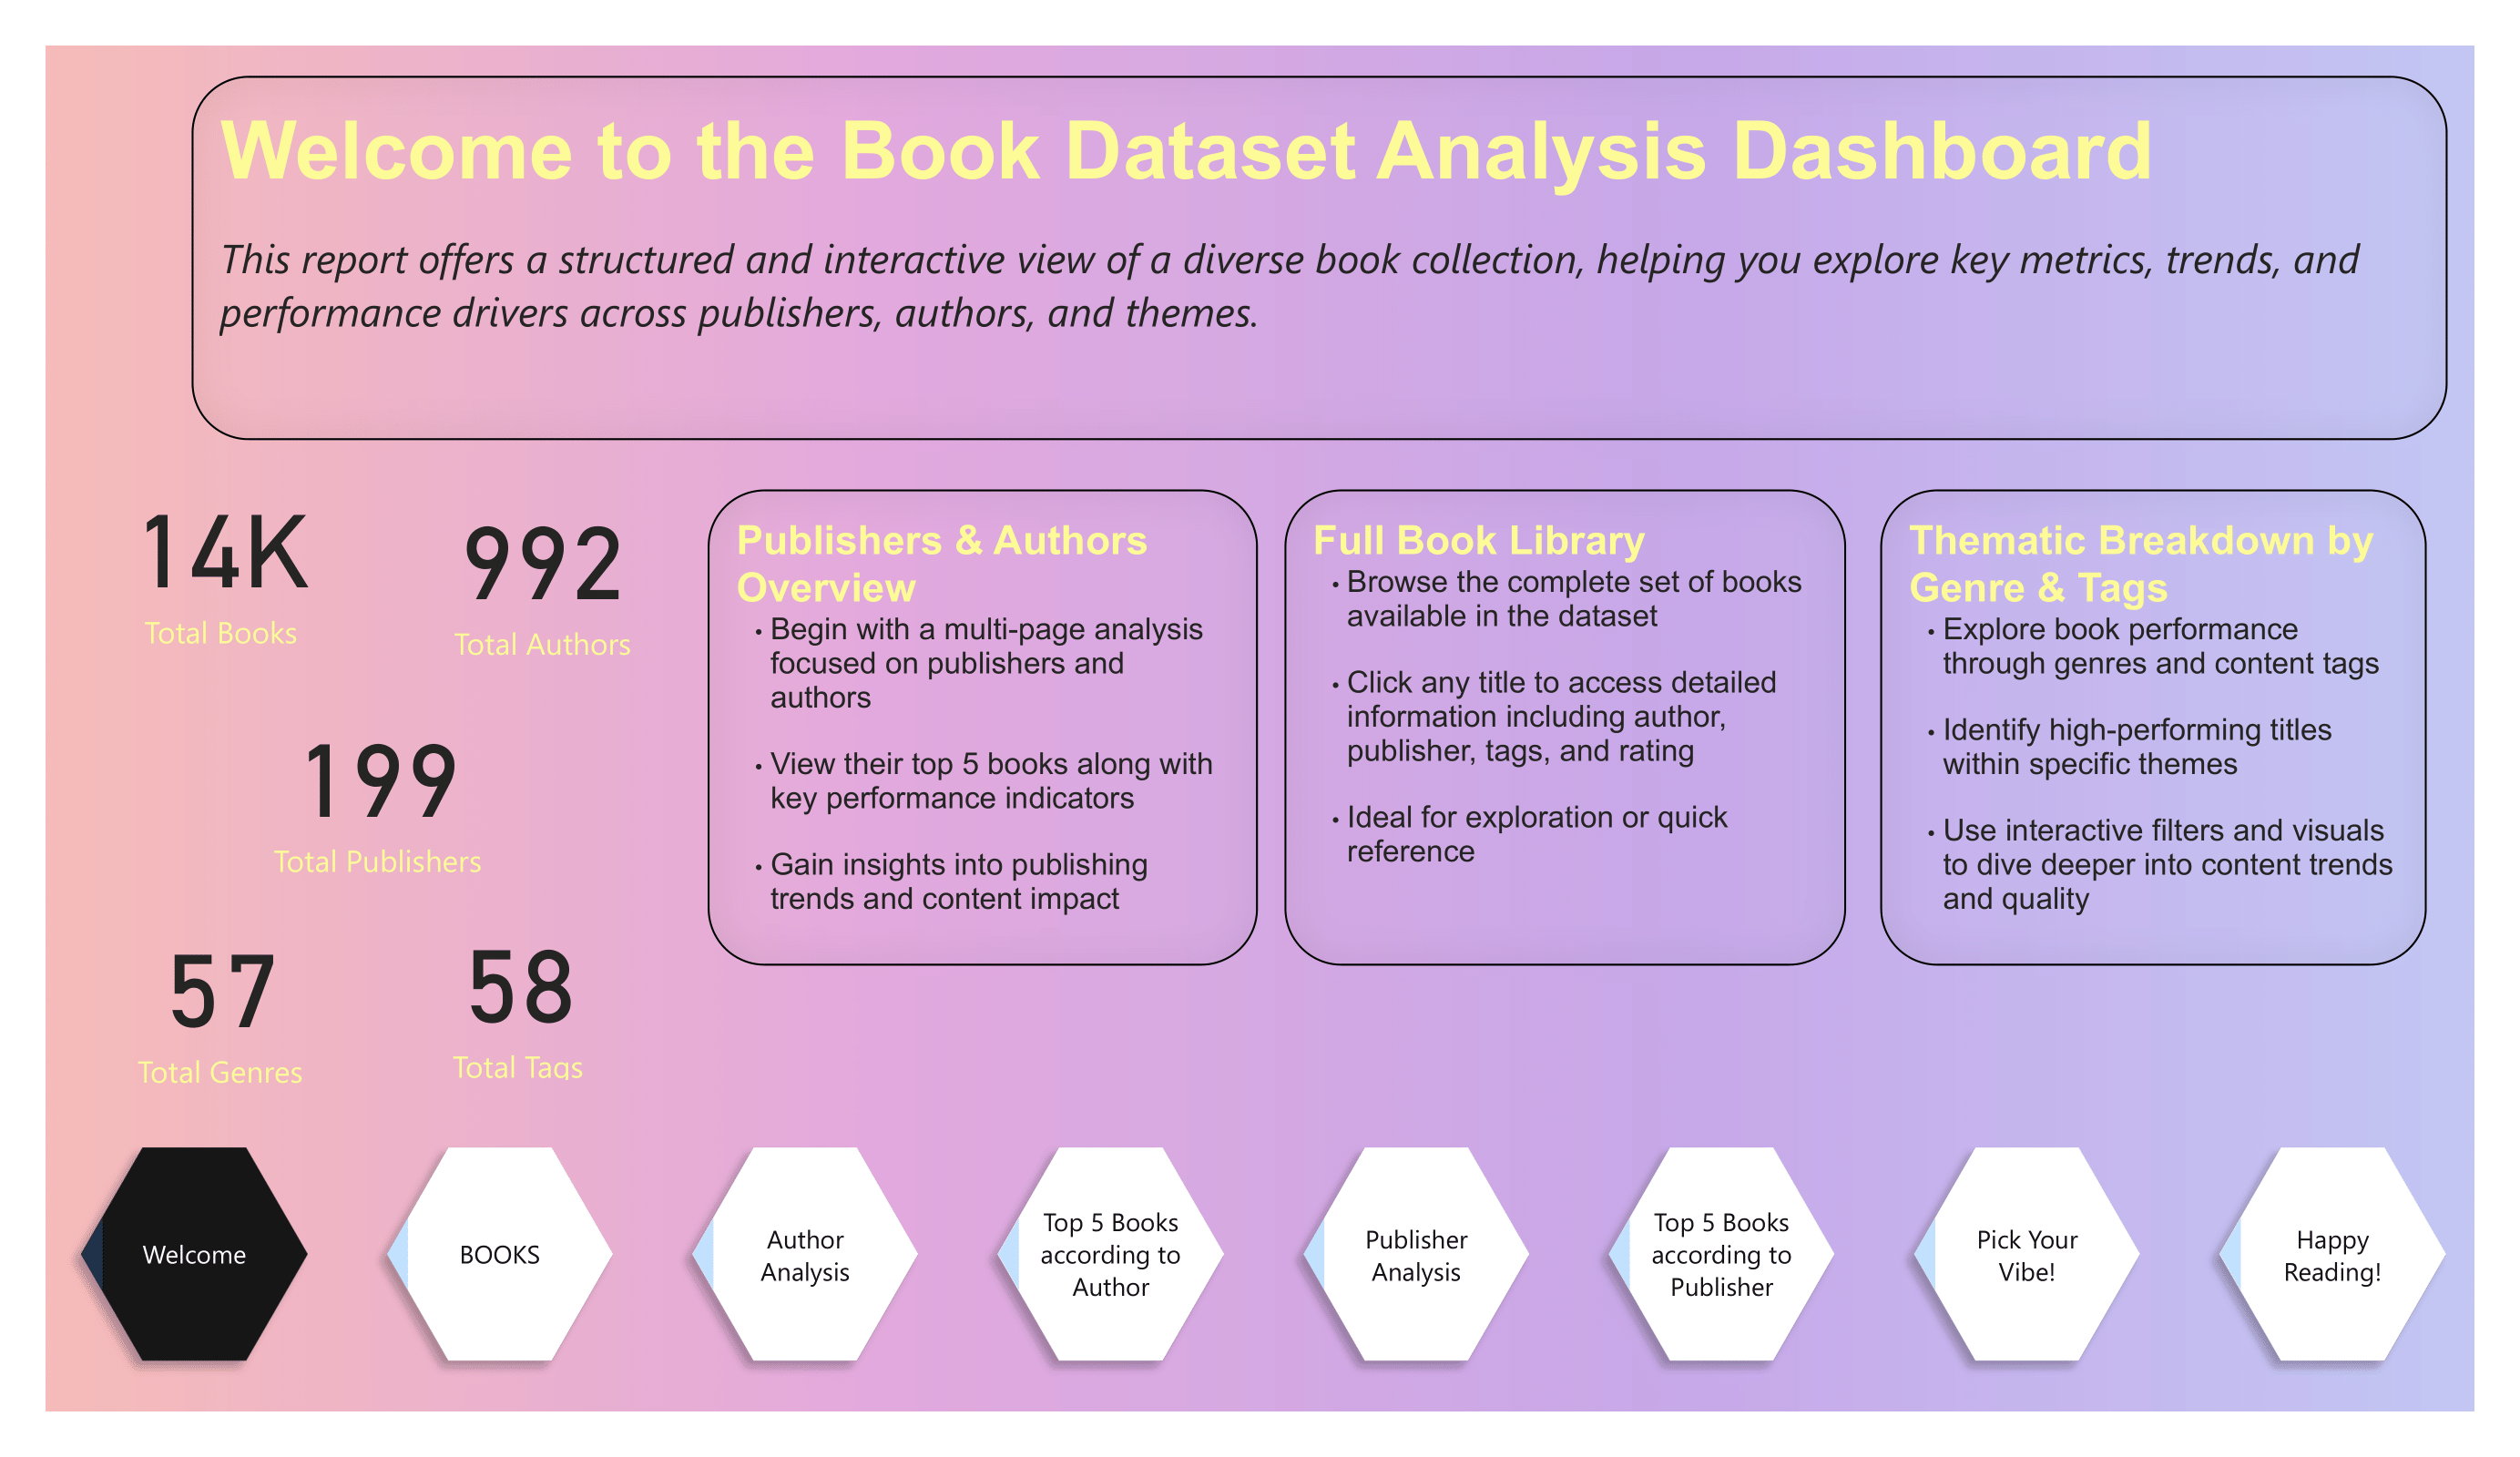

The dashboard page shown, as its layout file describes it:
{"tool":"powerbi","page":{"name":"Welcome","canvas":[1280,720],"ordinal":0},"visuals":[{"type":"card","fields":{"Values":["books_final.Total Authors"]},"box":[175.1,207.9,173.5,137.5],"z":0},{"type":"card","fields":{"Values":["books_final.Total Genres"]},"box":[9.4,448.6,165.7,106.3],"z":1000},{"type":"card","fields":{"Values":["books_final.Total Publishers"]},"box":[100,332.9,150,115.7],"z":2000},{"type":"card","fields":{"Values":["books_final.Total Titles"]},"box":[4.7,207.9,175.1,125],"z":3000},{"type":"card","fields":{"Values":["books_final.Total Tags"]},"box":[170.4,448.6,157.9,101.6],"z":4000},{"type":"textbox","box":[76.6,15.6,1189.4,192.2],"z":5000},{"type":"textbox","box":[967.5,234.4,287.6,250.1],"z":6000},{"type":"textbox","box":[348.5,234.4,290.7,250.1],"z":7000},{"type":"textbox","box":[653.3,234.4,295.4,250.1],"z":8000},{"type":"pageNavigator","box":[10,571.7,1270,130],"z":9000}]}

Visuals, with their boxes in screenshot pixels (x1, y1, x2, y2):
card - books_final.Total Authors: crop(378, 440, 707, 701)
card - books_final.Total Genres: crop(64, 897, 378, 1098)
card - books_final.Total Publishers: crop(235, 678, 520, 897)
card - books_final.Total Titles: crop(55, 440, 387, 678)
card - books_final.Total Tags: crop(369, 897, 668, 1089)
textbox: crop(191, 75, 2448, 440)
textbox: crop(1882, 490, 2427, 964)
textbox: crop(707, 490, 1259, 964)
textbox: crop(1285, 490, 1846, 964)
pageNavigator: crop(65, 1130, 2474, 1377)
